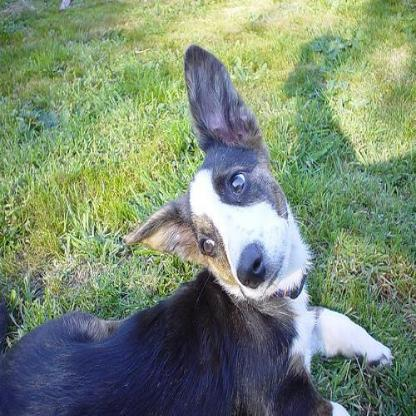Cardigan: (0, 45, 394, 414)
